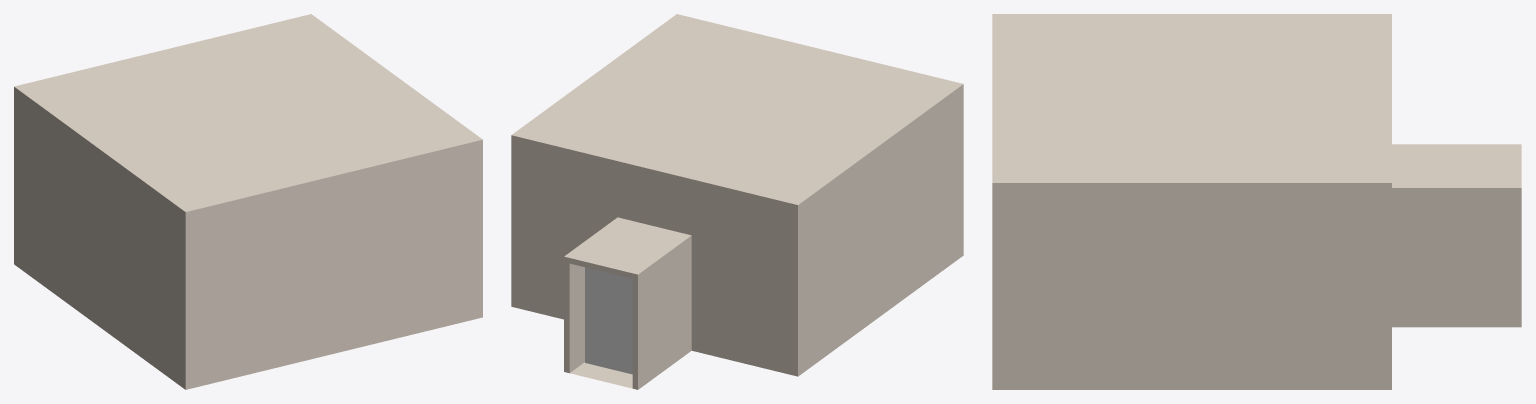
Rendered from room.fbx.
3 views of the same model, side by side, from view 1: azimuth 30°, elevation 25°; view 2: azimuth 150°, elevation 25°; view 3: azimuth 270°, elevation 25° (orthographic). The views are drawn at different scales.
Parts seen in each view (by area): view 1: Cubeaa; view 2: Cubeaa, Cube.001; view 3: Cubeaa.
Boxes of the visible parts, x1,y1,x2,y2 form: Cubeaa: [14, 14, 482, 389]; Cubeaa: [511, 14, 963, 389]; Cube.001: [585, 267, 632, 374]; Cubeaa: [992, 14, 1521, 389].
Bounding box in the file's own units: 700 × 400 × 927.
